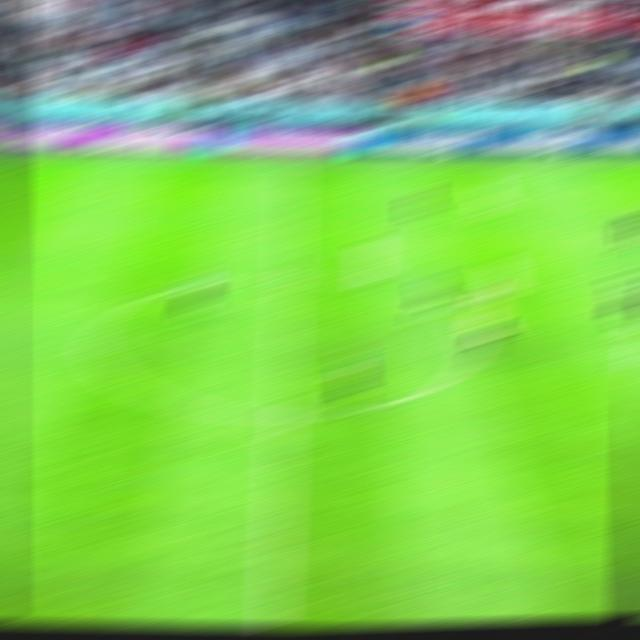halfcircle_bottom: (263, 400, 304, 430)
halfcircle_top: (267, 262, 308, 290)
midline_top_intersection: (276, 157, 308, 176)
